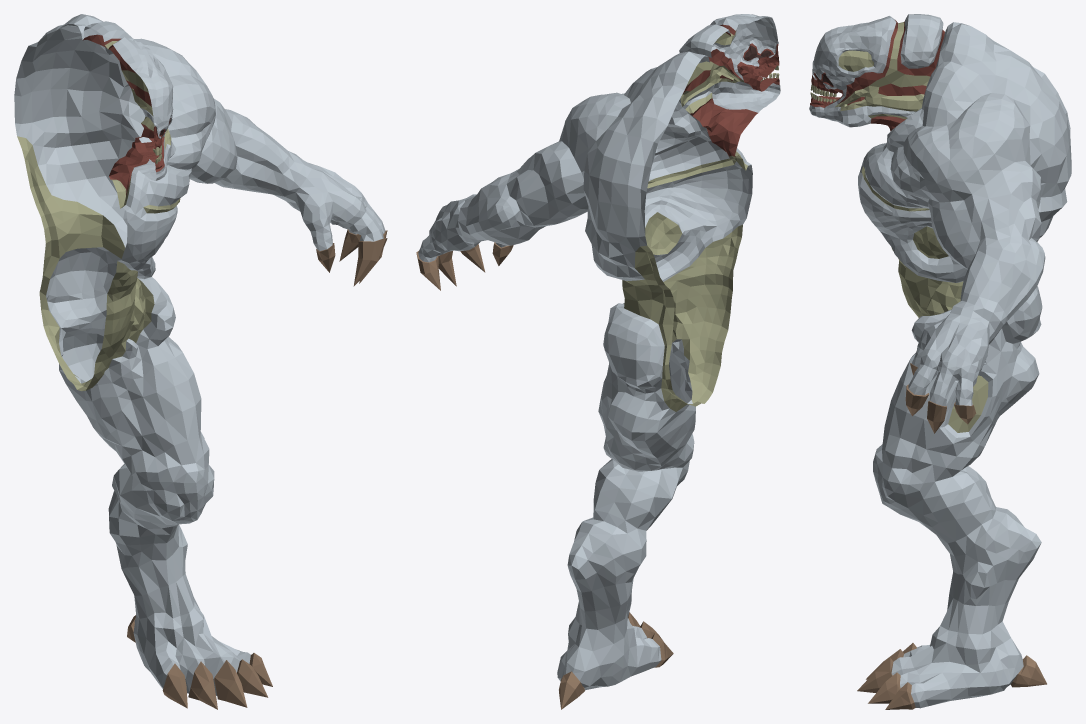
File: monster.dae
3 views of the same model, side by side, from view 1: azimuth 30°, elevation 25°; view 2: azimuth 150°, elevation 25°; view 3: azimuth 270°, elevation 25° (orthographic). The views are drawn at different scales.
Parts seen in each view (by area): view 1: body; view 2: body; view 3: body.
Part boxes in pixels (x1=…): body: x1=14, y1=14, x2=387, y2=709; body: x1=416, y1=14, x2=780, y2=709; body: x1=809, y1=14, x2=1071, y2=709.
Bounding box in the file's own units: 1.26 × 1.04 × 2.77.
